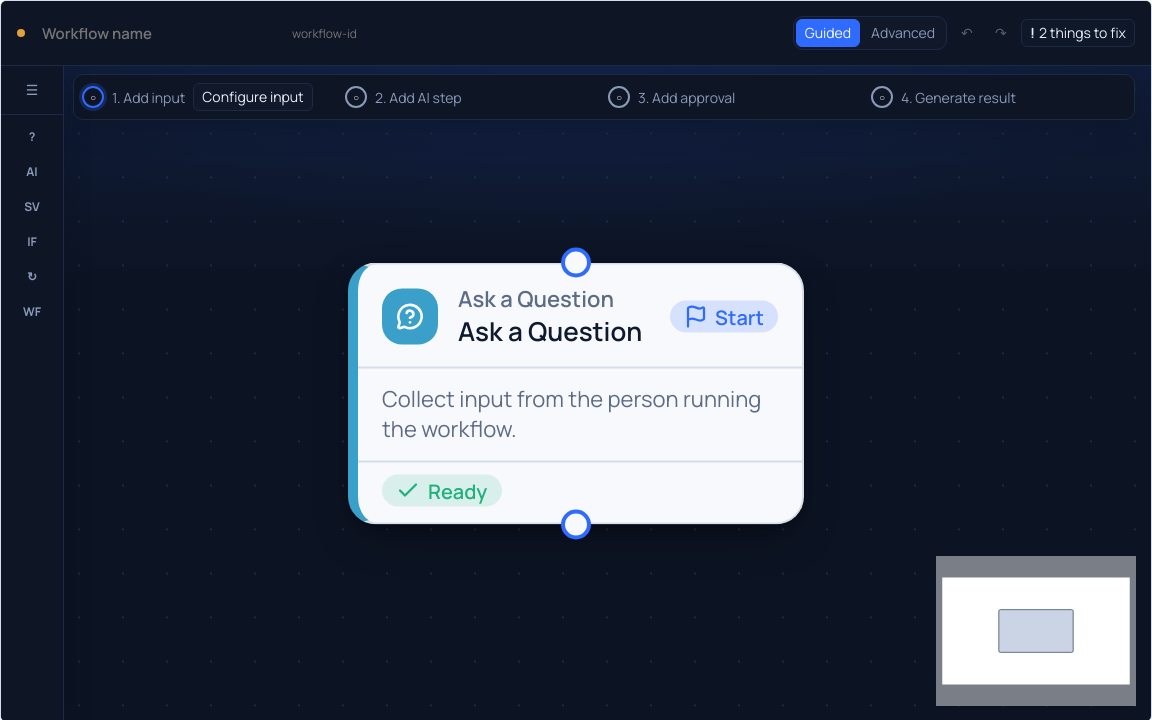
WorkflowBuilder inspector delete › confirming a real deletion moves focus to a stable builder target, never to document.body, once the deletion commits
The width and height of the screenshot is (1152, 720).
Click the button "Configure input".
click(253, 97)  # box [193,83,313,110]
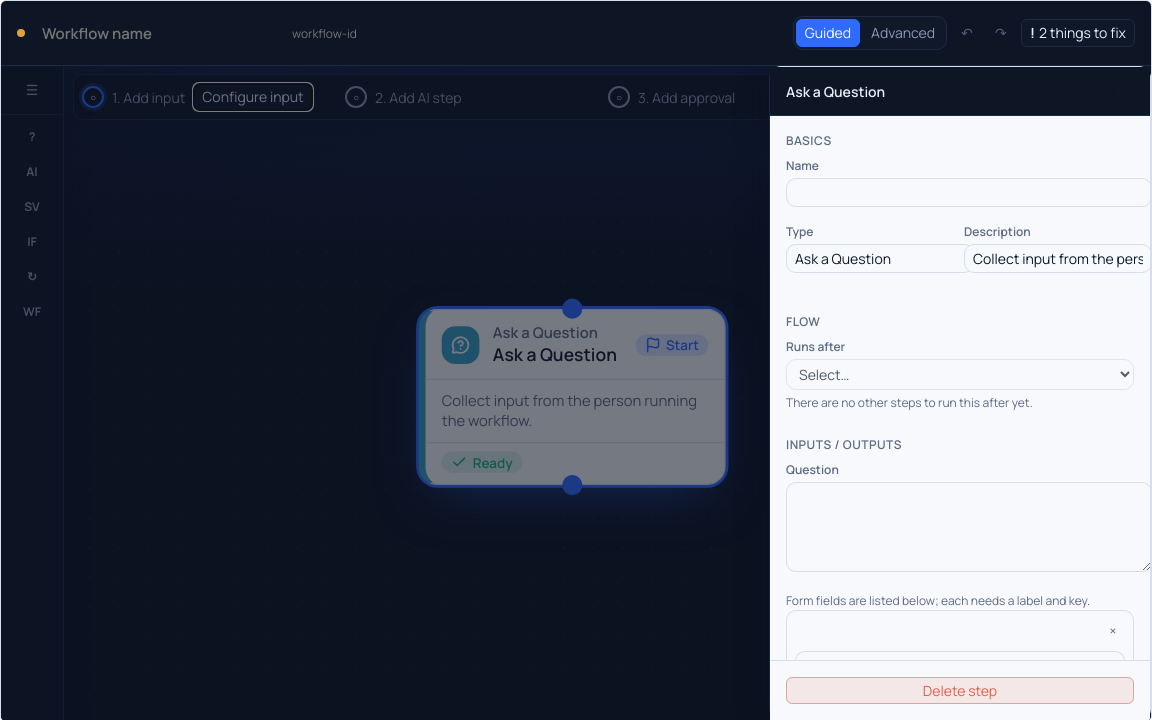
Expected: the number of elements with class "react-flow__node" is 1, [419,309,726,485]
Click the button "Delete step".
click(960, 690)  # box [786,676,1134,704]
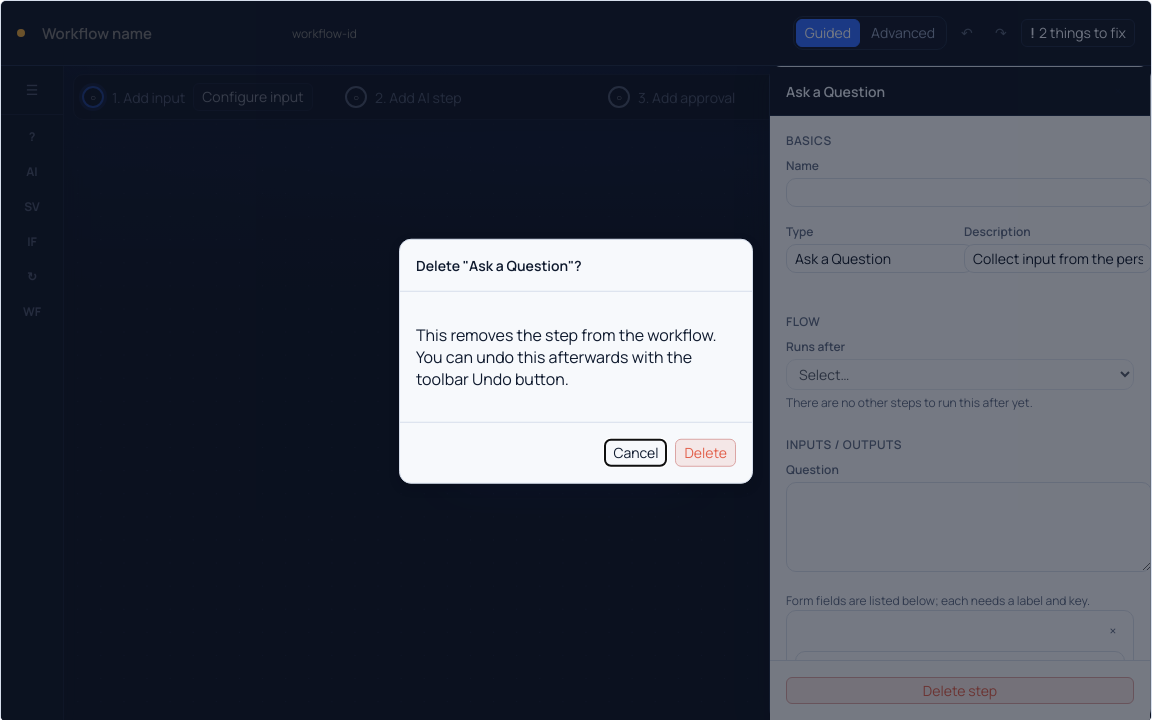
Click the button "Delete".
click(706, 453)  # box [676,439,736,466]
(page scrolled)
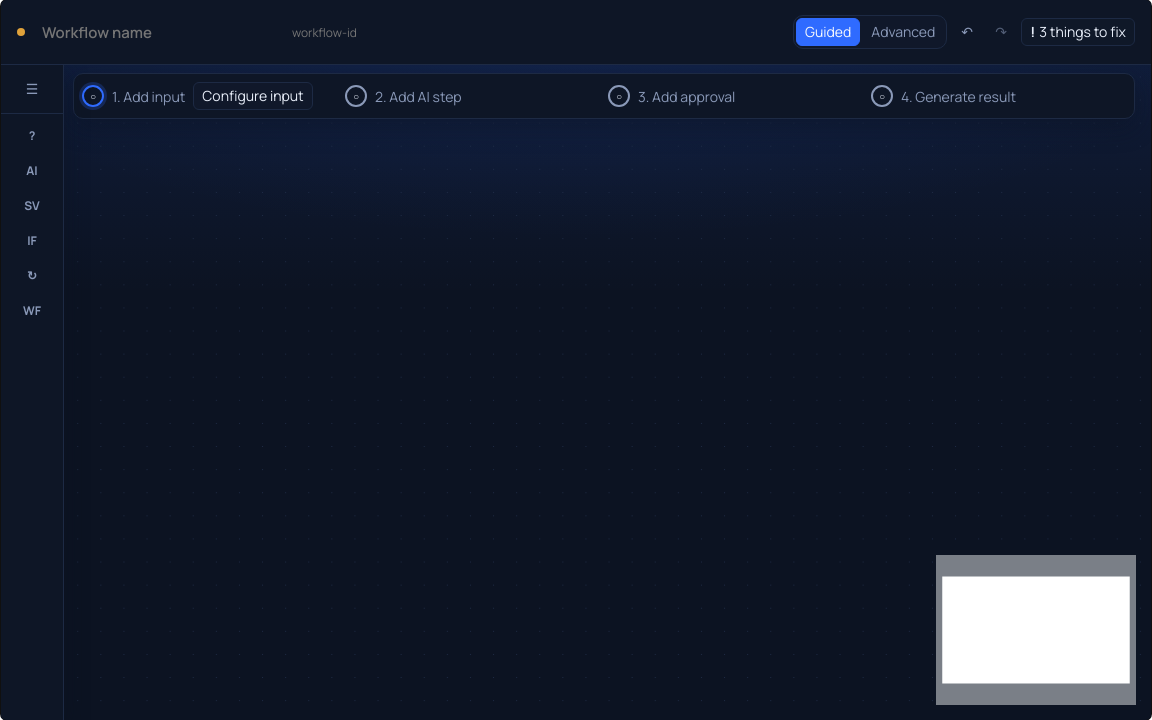
Result: the dialog is gone
Result: no elements with class "react-flow__node" are shown
